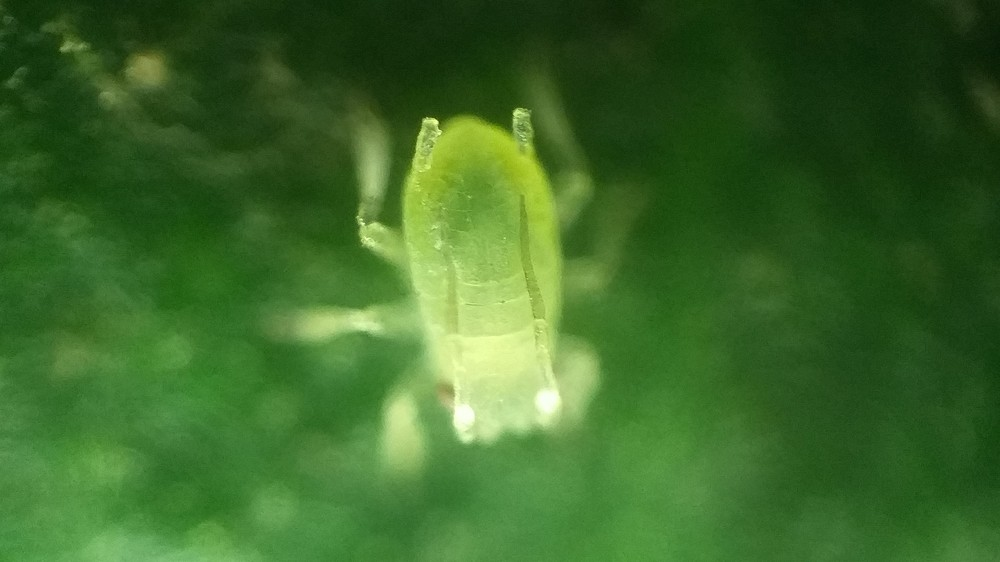Pulgon: (279, 97, 665, 507)
